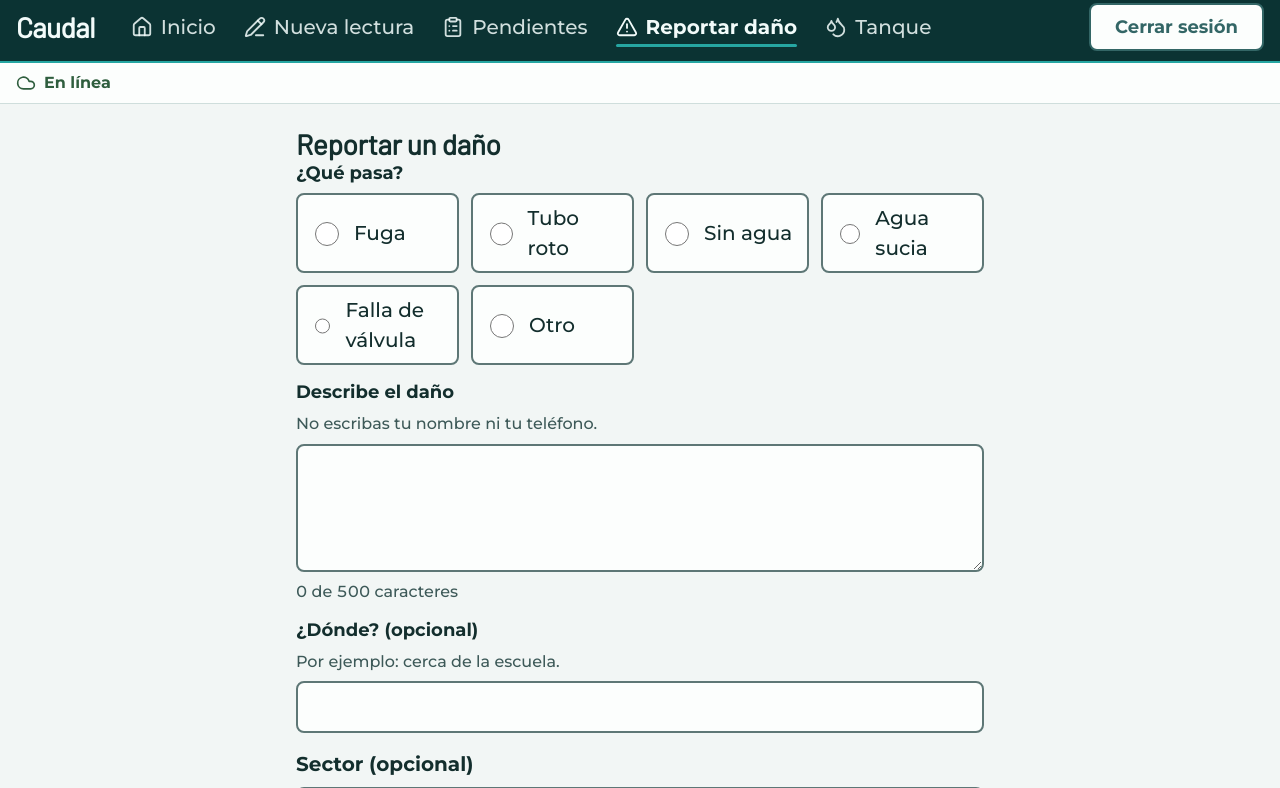
Scenario: OperatorDamagePage (S11) › goes back to the operator home saying the Board will see it
Click the radio button labelled "Fuga" at [327, 234], box [315, 222, 339, 246]
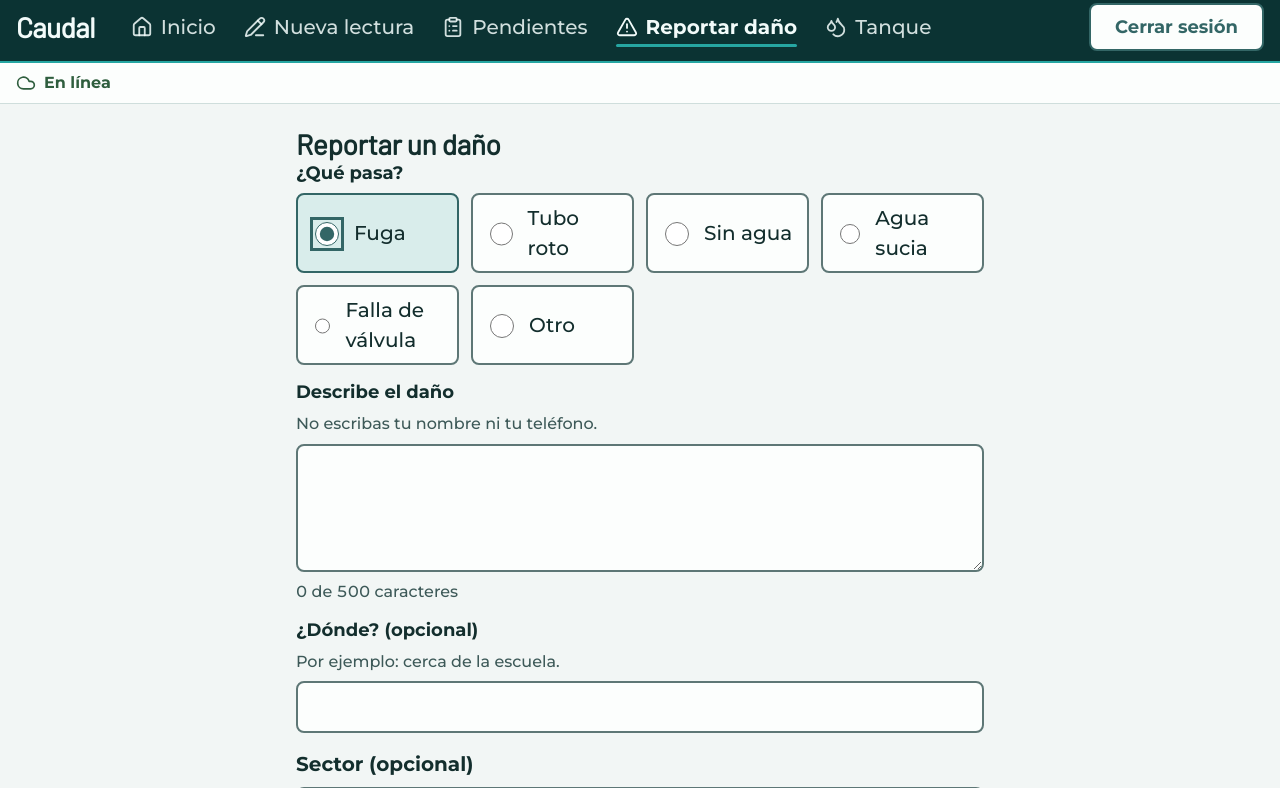
Type "Gotea el tubo junto a la escuela." into the text box labelled "Describe el daño" at [640, 508], box [296, 444, 984, 572]
(page scrolled)
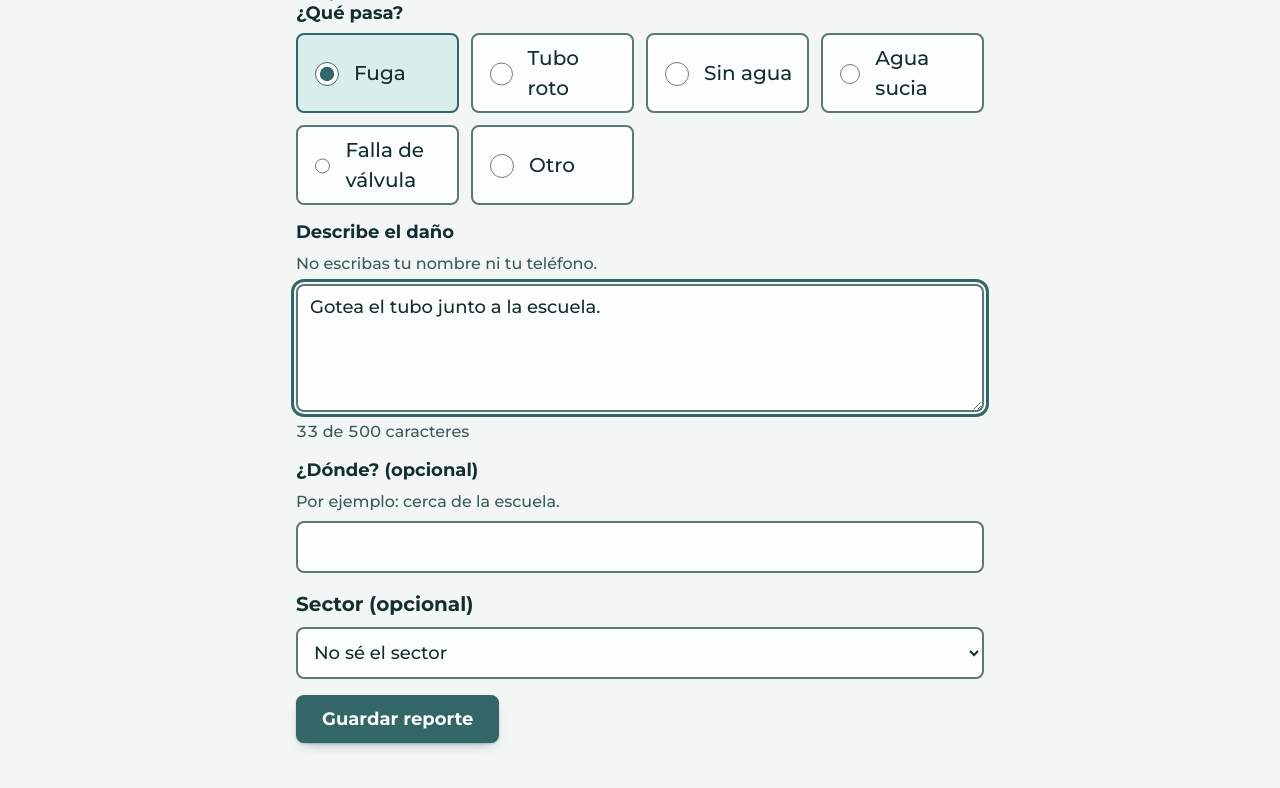
Click the button "Guardar reporte" at [398, 719], box [296, 695, 499, 743]
(page scrolled)
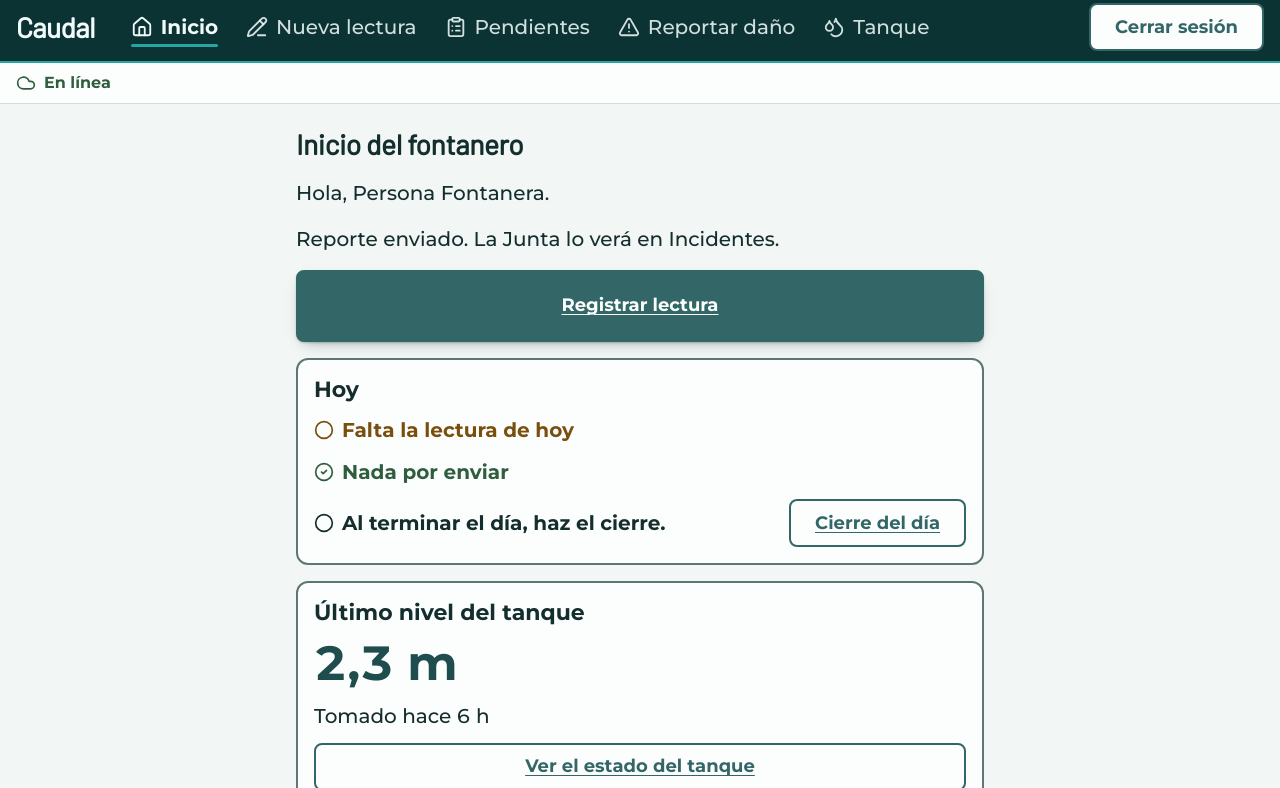
Now the message reads "Reporte enviado. La Junta lo verá en Incidentes.", box [296, 227, 779, 251]
Now the heading "Inicio del fontanero" is shown, box [296, 127, 523, 161]
